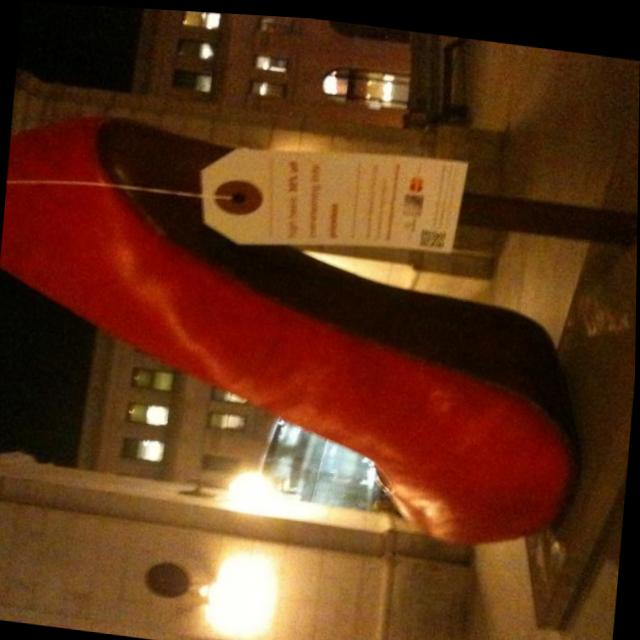qrcode: (422, 225, 446, 242)
